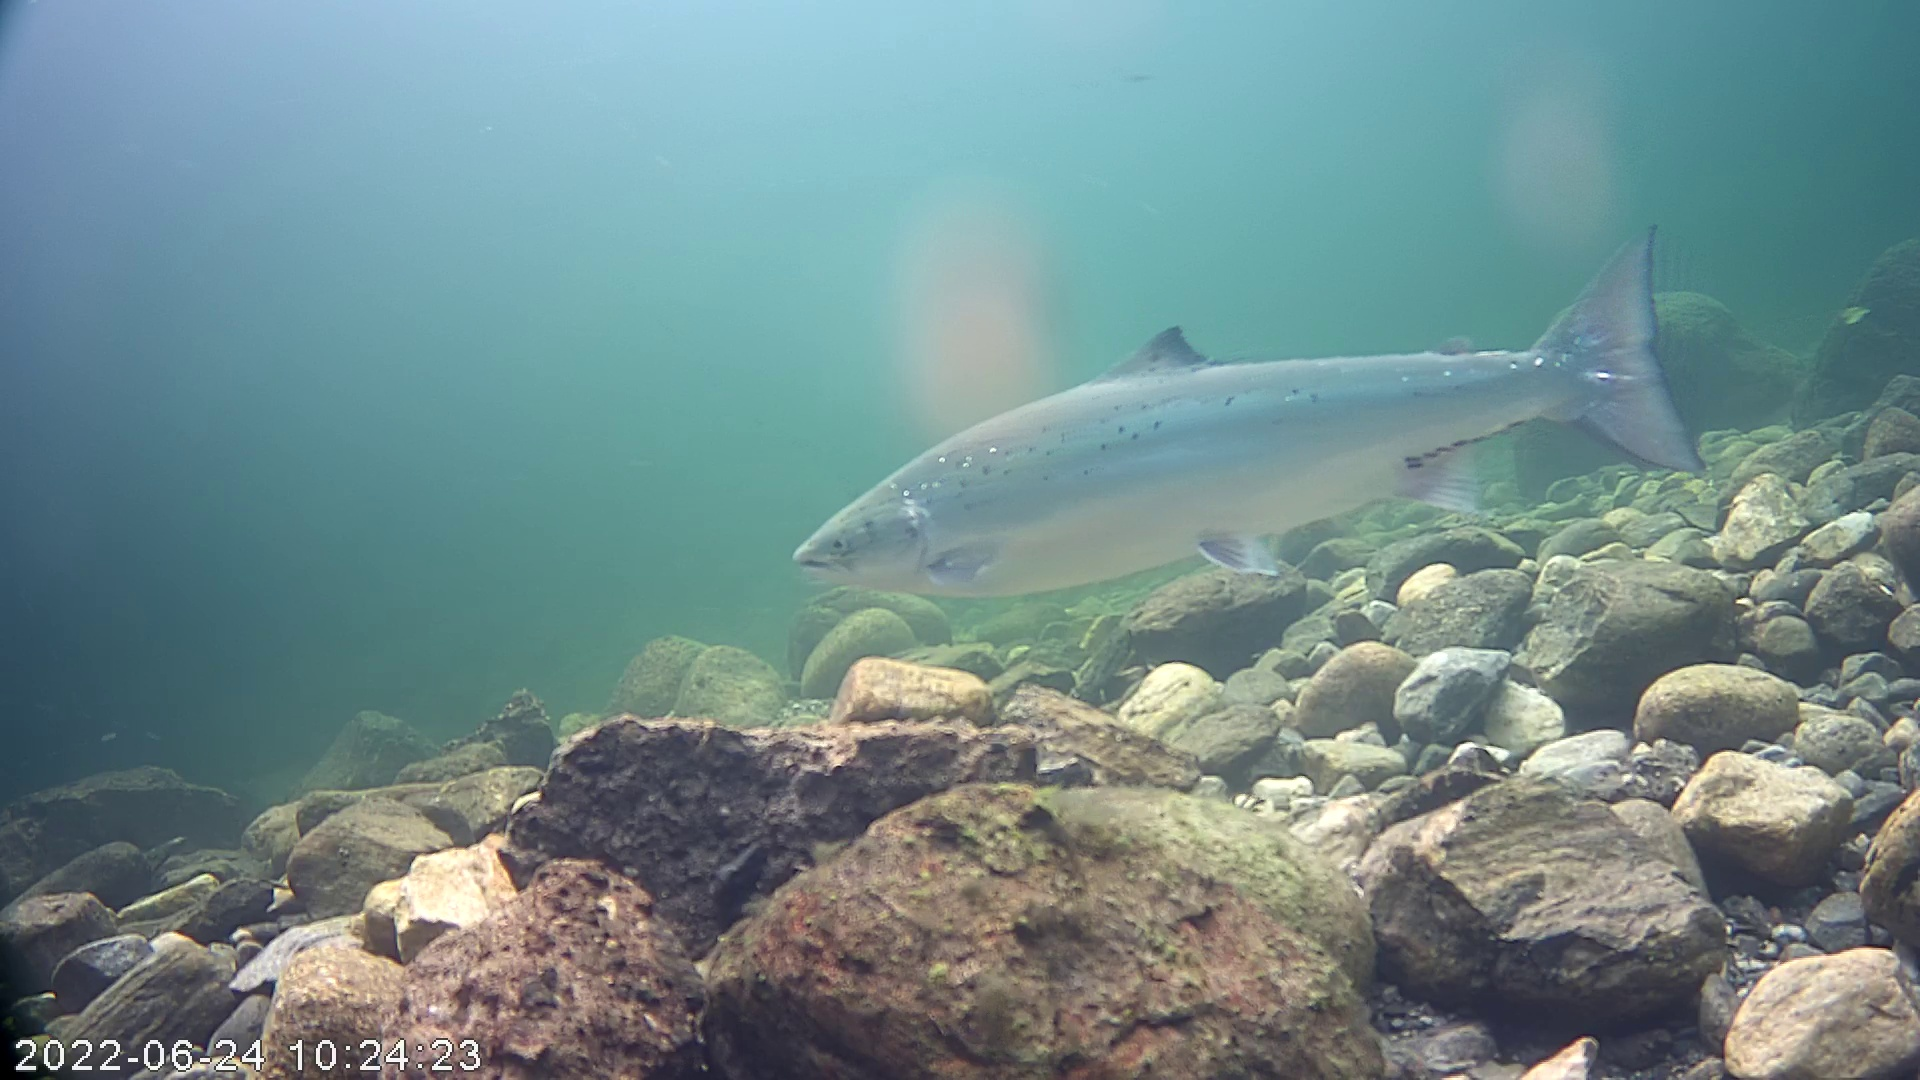salmon: (791, 224, 1702, 601)
